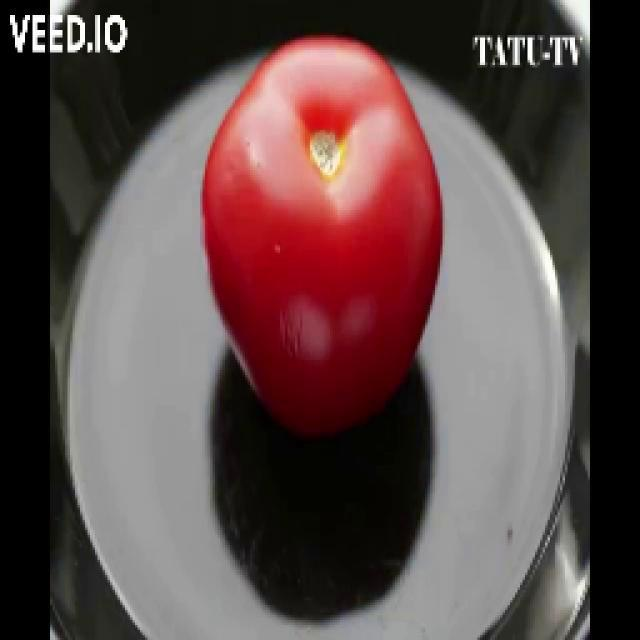tomato: (200, 36, 444, 444)
